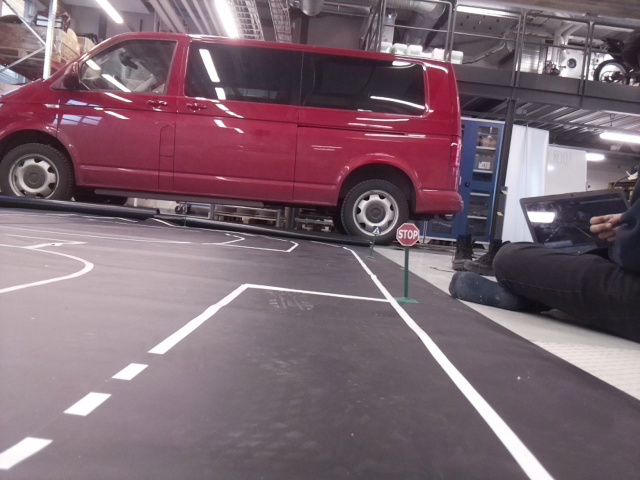Stop: (397, 222, 419, 246)
